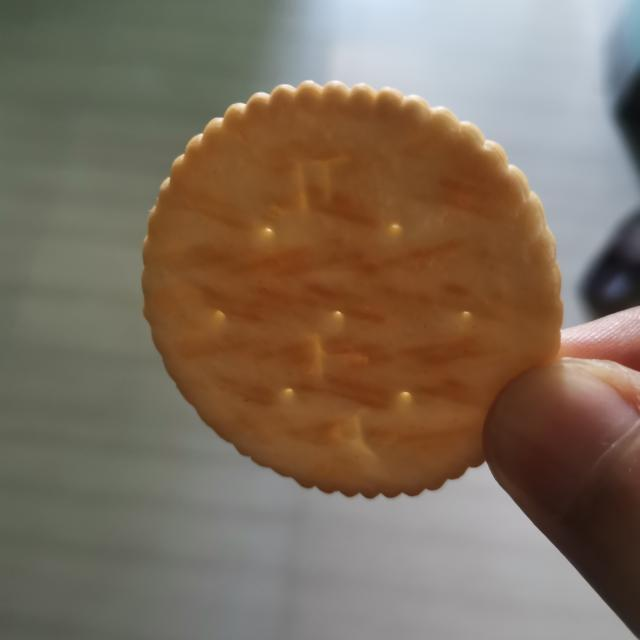Intact: (133, 75, 572, 503)
